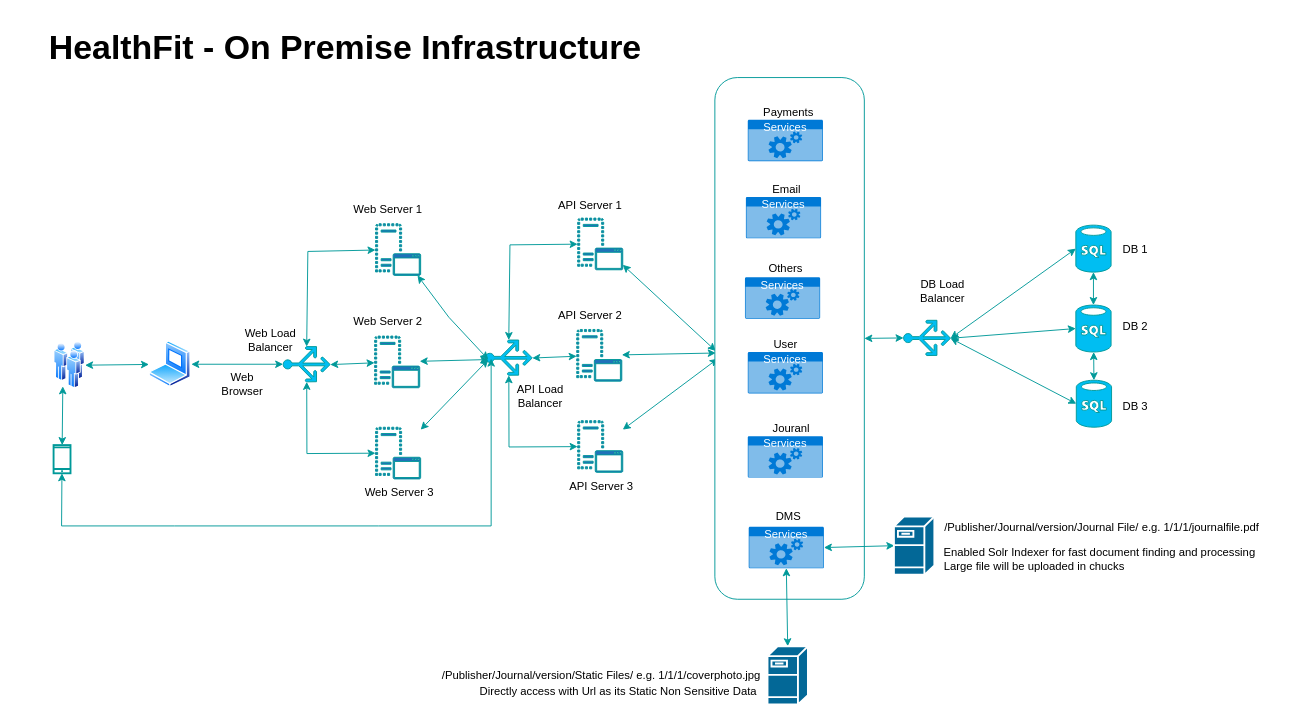
Some shapes in this 1289 by 722 pixel diagram are drawn without their labels. Here are the shapes that lost their labels. From the top down, the centre of each, then its label:
At pixel 245 509: "Mobile Or Tablets Apps".
At pixel 992 507: "File Storage Server 1X (NAS/SAN)".
At pixel 1046 539: "Read Only Access Token with expirations".
At pixel 668 660: "Static File Storage Server (NAS/SAN)".
